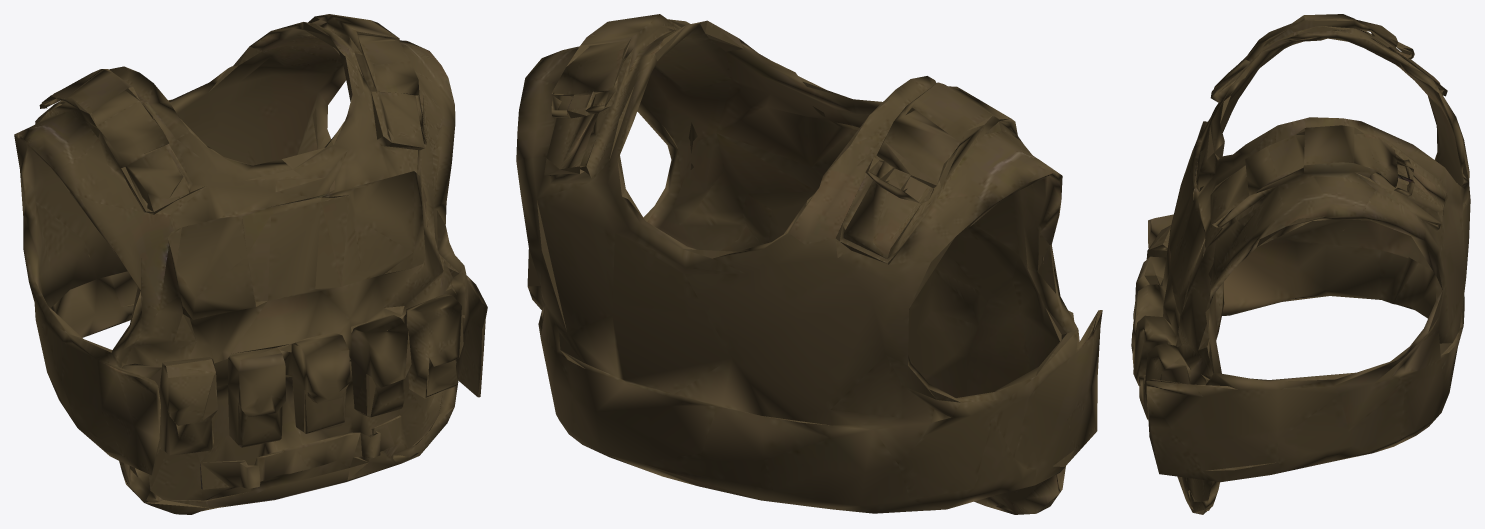
The model's file is field-chest-panel.glb.
3 renders of one model, left to right at view 1: azimuth 30°, elevation 25°; view 2: azimuth 150°, elevation 25°; view 3: azimuth 270°, elevation 25°, orthographic. The views are drawn at different scales.
Parts seen in each view (by area): view 1: Mesh_0; view 2: Mesh_0; view 3: Mesh_0.
Part boxes in pixels (x1,y1,x2,y2): Mesh_0: (14, 14, 487, 514); Mesh_0: (516, 14, 1102, 514); Mesh_0: (1131, 14, 1470, 514).
Size of the model in its own units: 0.5109 by 0.48 by 0.3824.
1 material, 1 textured.
